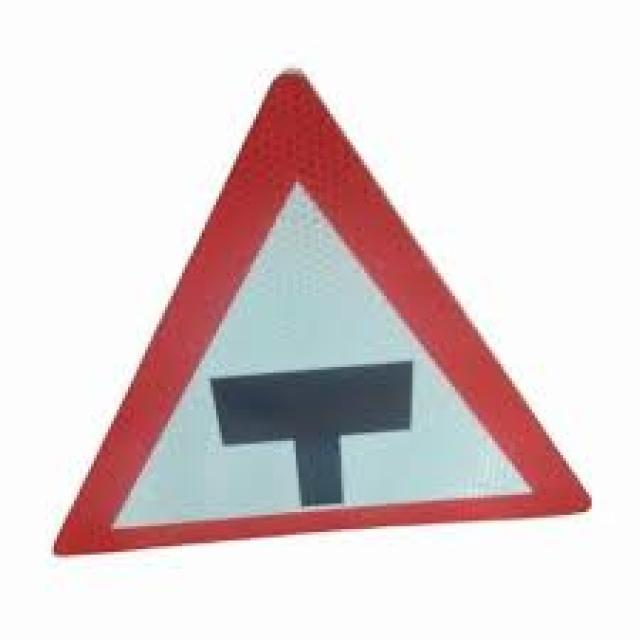t intersection: (39, 60, 601, 567)
